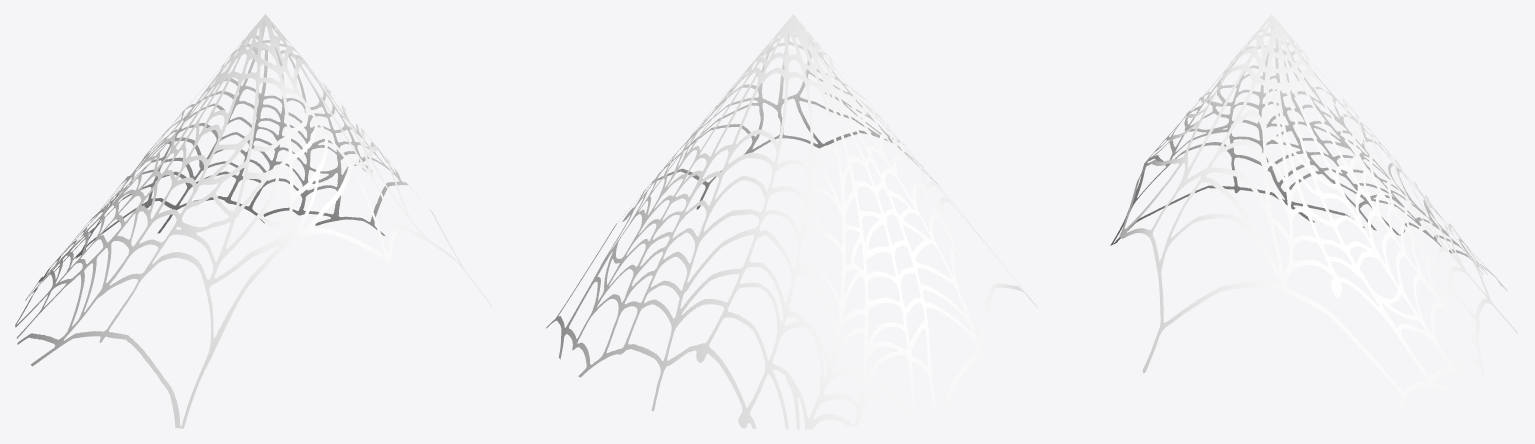
Rendered from SpiderNet.fbx.
The picture shows the model from 3 angles, left to right: view 1: azimuth 30°, elevation 25°; view 2: azimuth 150°, elevation 25°; view 3: azimuth 270°, elevation 25°; orthographic projection.
Visible parts, largest first — view 1: SpiderNet; view 2: SpiderNet; view 3: SpiderNet.
Part boxes in pixels (x1,y1,x2,y2): SpiderNet: (15,14,492,428); SpiderNet: (546,14,1037,429); SpiderNet: (1110,14,1517,413).
Bounding box in the file's own units: 3.23 × 2.22 × 2.92.
